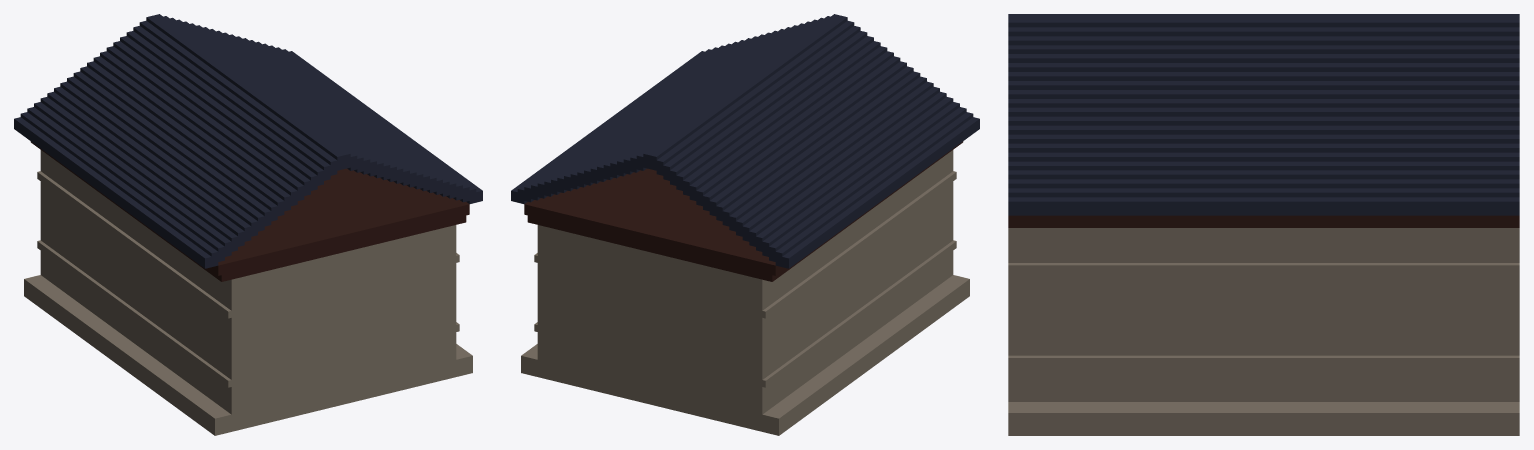
The model's file is Korean castle_wall_04.FBX.
The picture shows the model from 3 angles, left to right: view 1: azimuth 30°, elevation 25°; view 2: azimuth 150°, elevation 25°; view 3: azimuth 270°, elevation 25°; orthographic projection. The views are drawn at different scales.
Parts seen in each view (by area): view 1: Voxel_Korean_traditional castle-5; view 2: Voxel_Korean_traditional castle-5; view 3: Voxel_Korean_traditional castle-5.
Part boxes in pixels (left/top/right/bottom): Voxel_Korean_traditional castle-5: left=14, top=14, right=482, bottom=435; Voxel_Korean_traditional castle-5: left=511, top=14, right=979, bottom=435; Voxel_Korean_traditional castle-5: left=1008, top=14, right=1519, bottom=435.
Bounding box in the file's own units: 168 × 144 × 200.
1 material, 1 textured.
